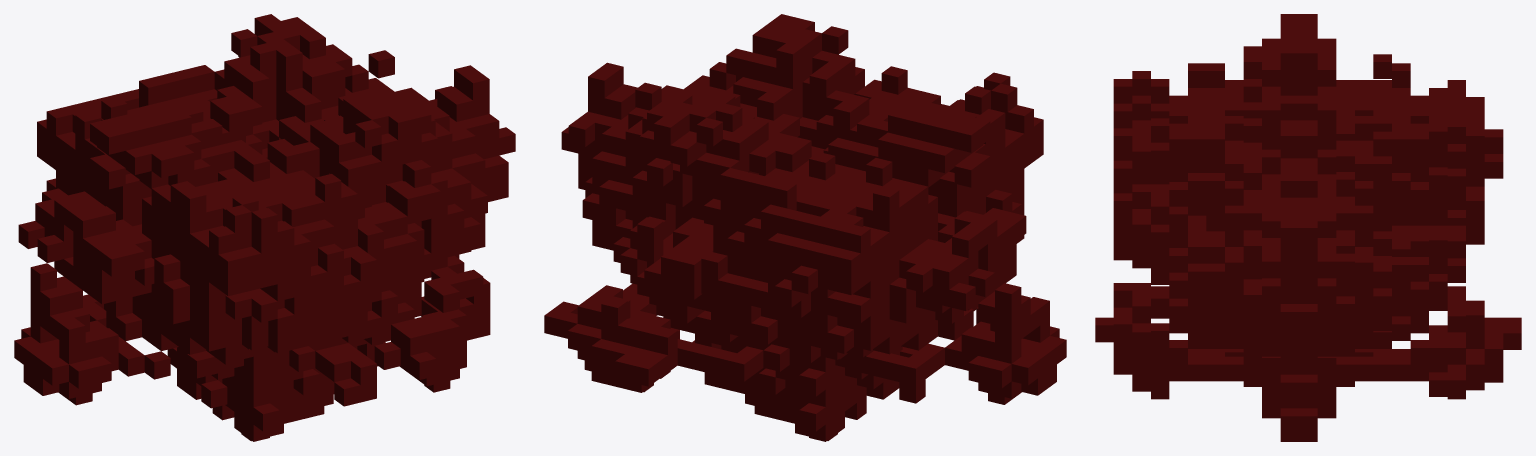
The model's file is bad-11.obj.
3 renders of one model, left to right at view 1: azimuth 30°, elevation 25°; view 2: azimuth 150°, elevation 25°; view 3: azimuth 270°, elevation 25°, orthographic. The views are drawn at different scales.
Bounding box in the file's own units: 2.8 × 1.9 × 2.3.
Materials: 1 (1 with a texture image).
